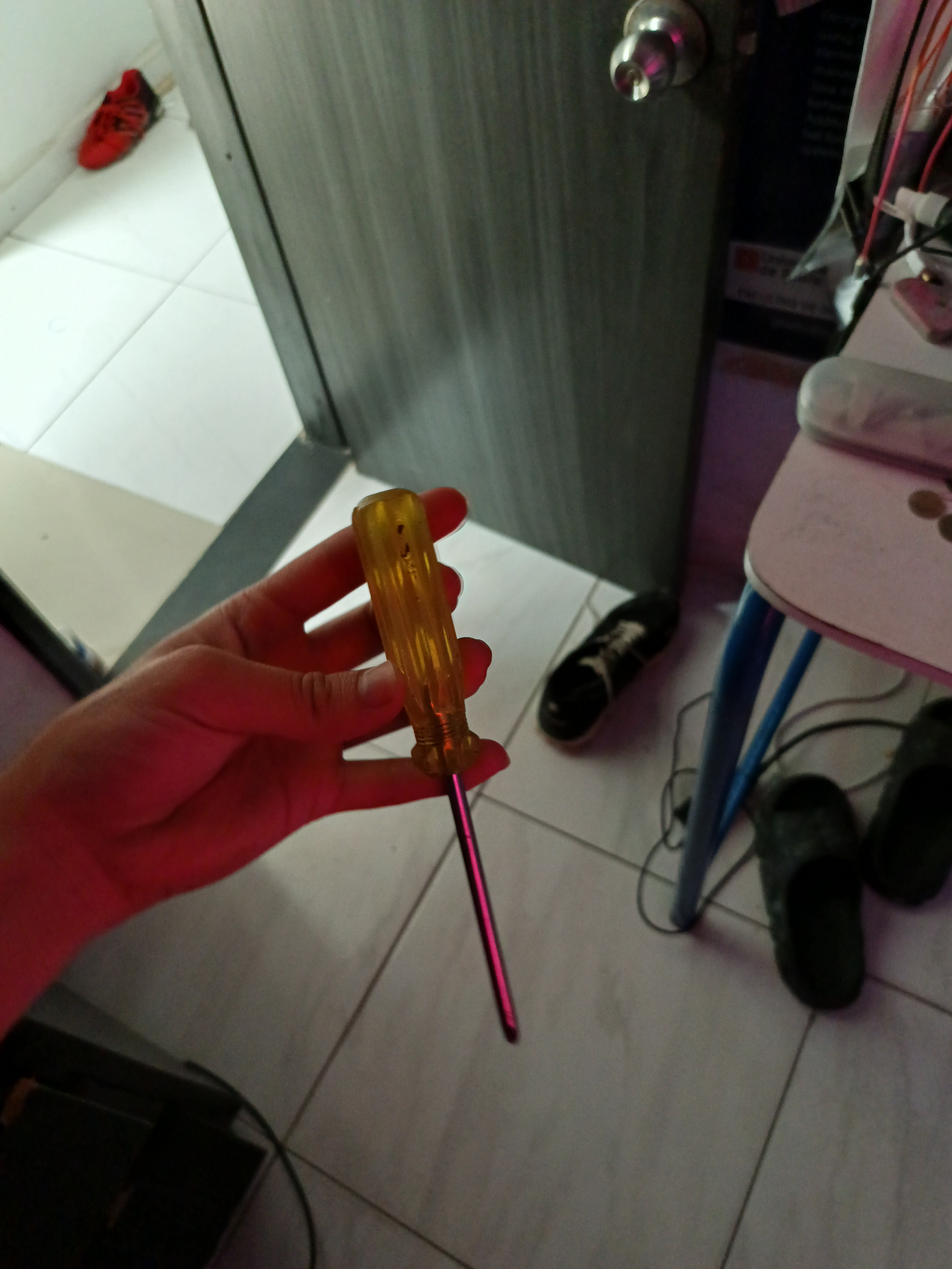Destornillador: (353, 489, 518, 1042)
